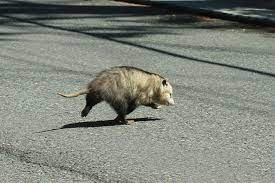opossum: (55, 65, 176, 126)
